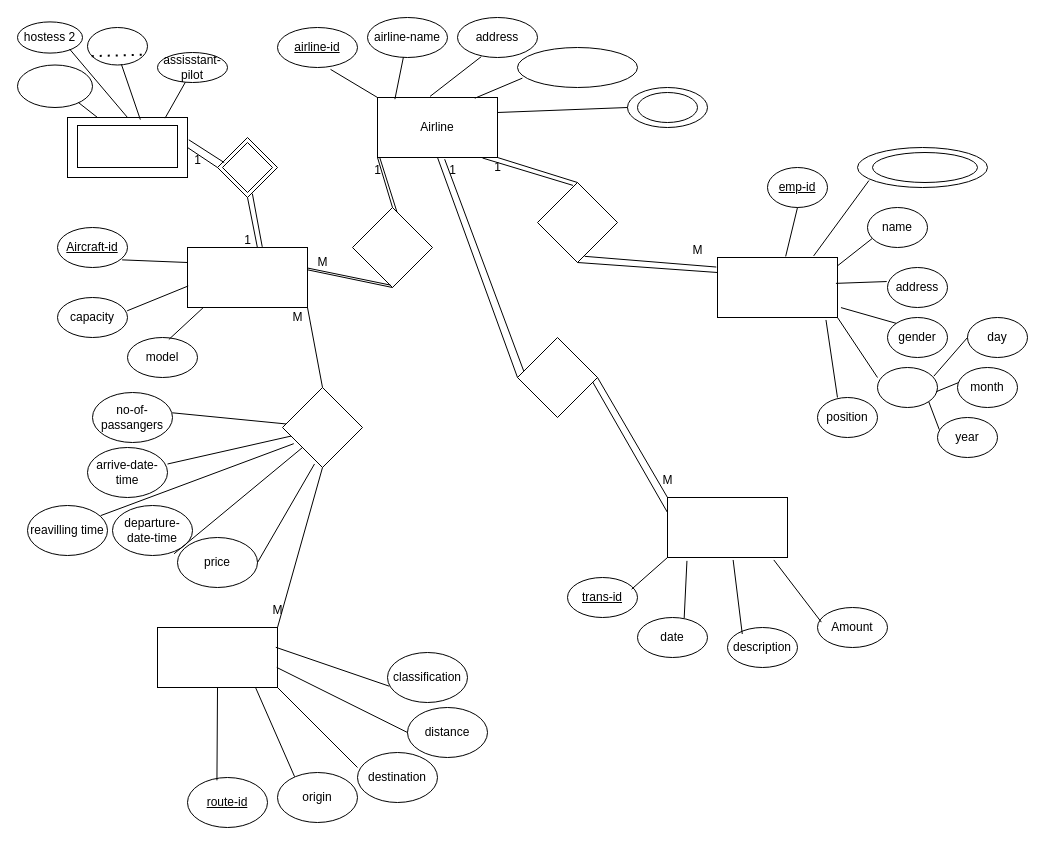
Image size: 1045x845. Some labels were removed from this diagram. The centre of each missing label's shape, as x and y in pixels:
Aircraft: point (247, 277)
Assign: point (322, 427)
birthday: point (907, 387)
contact-person-name: point (577, 67)
Crew: point (127, 146)
Employee: point (777, 287)
has: point (247, 167)
hostess 1: point (54, 86)
major-pilot: point (117, 45)
Own: point (392, 247)
Qualiifacations: point (925, 167)
Record info: point (557, 377)
Route: point (217, 657)
telephone: point (667, 107)
trabsaction: point (727, 527)
work: point (577, 222)
